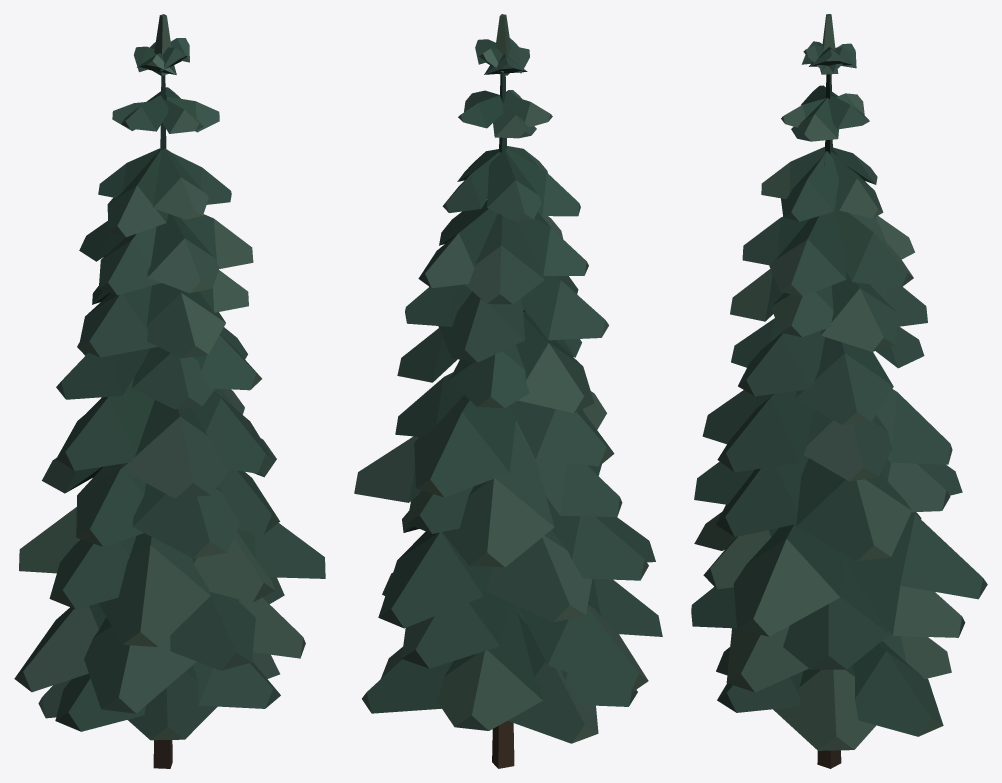
File: pine.glb
The picture shows the model from 3 angles, left to right: view 1: azimuth 30°, elevation 25°; view 2: azimuth 150°, elevation 25°; view 3: azimuth 270°, elevation 25°; orthographic projection.
Visible parts, largest first — view 1: pine; view 2: pine; view 3: pine.
Part boxes in pixels (x1,y1,x2,y2): pine: [14, 14, 325, 768]; pine: [354, 14, 662, 768]; pine: [691, 14, 987, 768].
Size of the model in its own units: 3.65 by 9.7 by 3.48.
